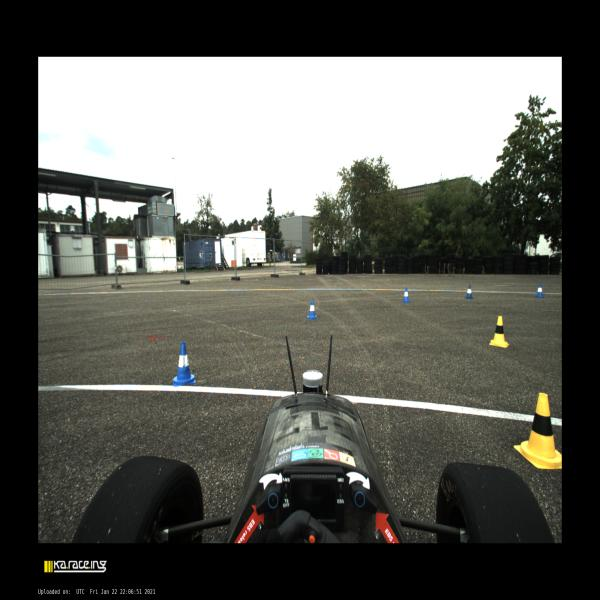blue_cone: (173, 342, 196, 386), (307, 299, 318, 320), (402, 288, 410, 303), (536, 284, 544, 298), (465, 285, 473, 299)
yellow_cone: (514, 392, 561, 468), (489, 316, 509, 348)
